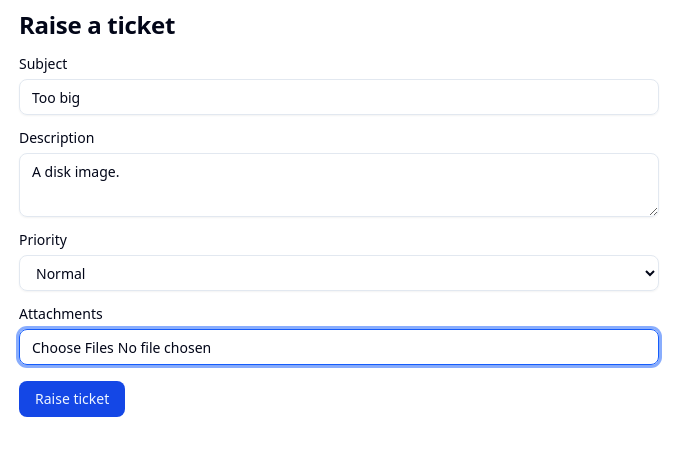
Scenario: a file over the size limit is refused with a message next to the field, and nothing is sent
Earlier steps of the test are not shown.
Click the button "Raise ticket" at (72, 399), box [19,381,125,417]
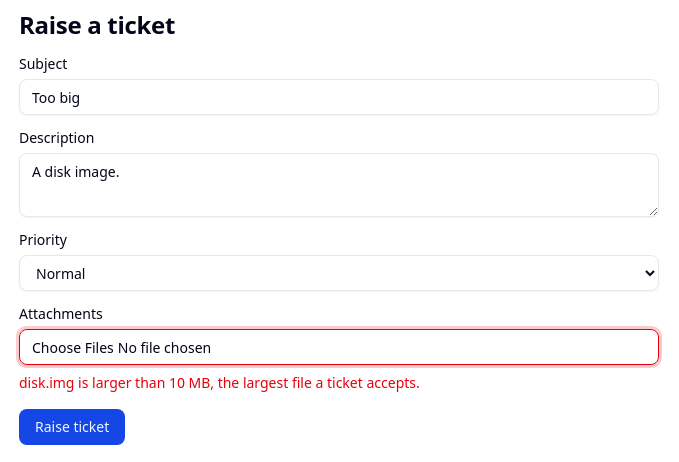
Result: the message reads "disk.img is larger than 10 MB, the largest file a ticket accepts." at [19,373,420,392]
